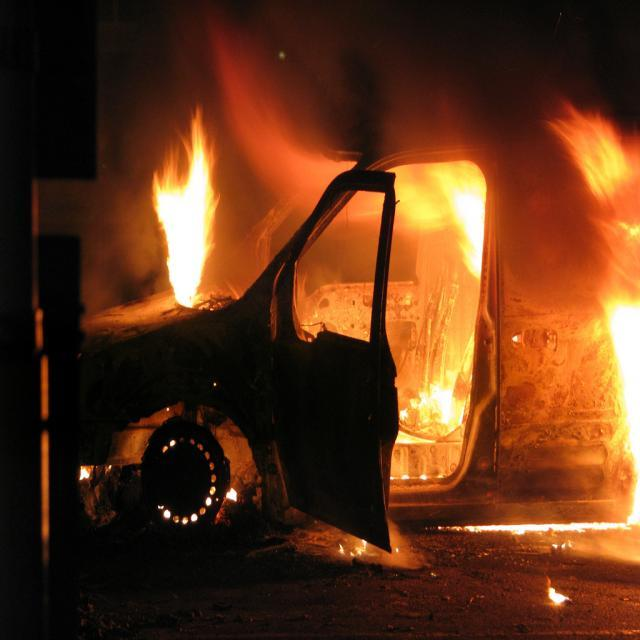Fire: (606, 302, 640, 516), (159, 186, 215, 302), (415, 376, 473, 442), (452, 183, 492, 267)
